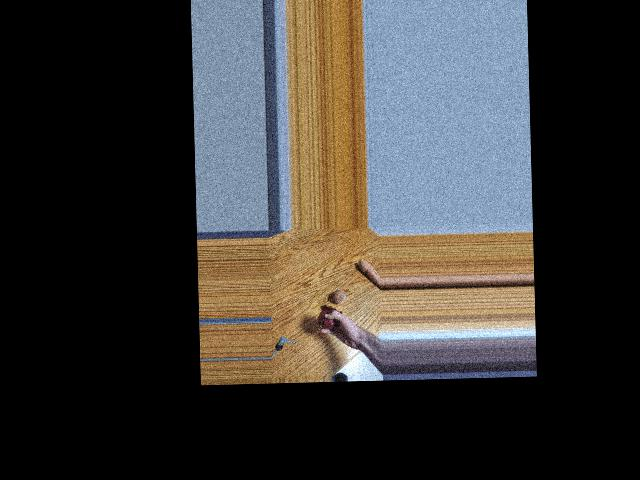onion: (317, 309, 335, 328)
